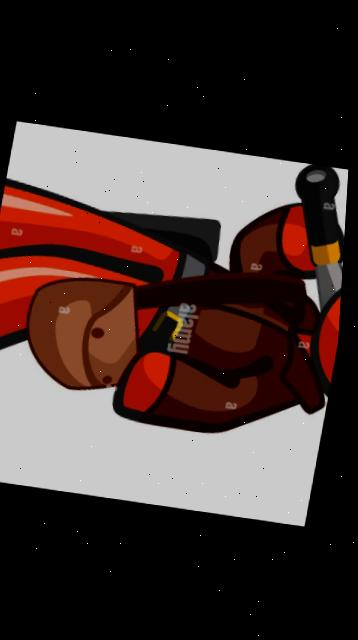long knife: (226, 157, 351, 525)
